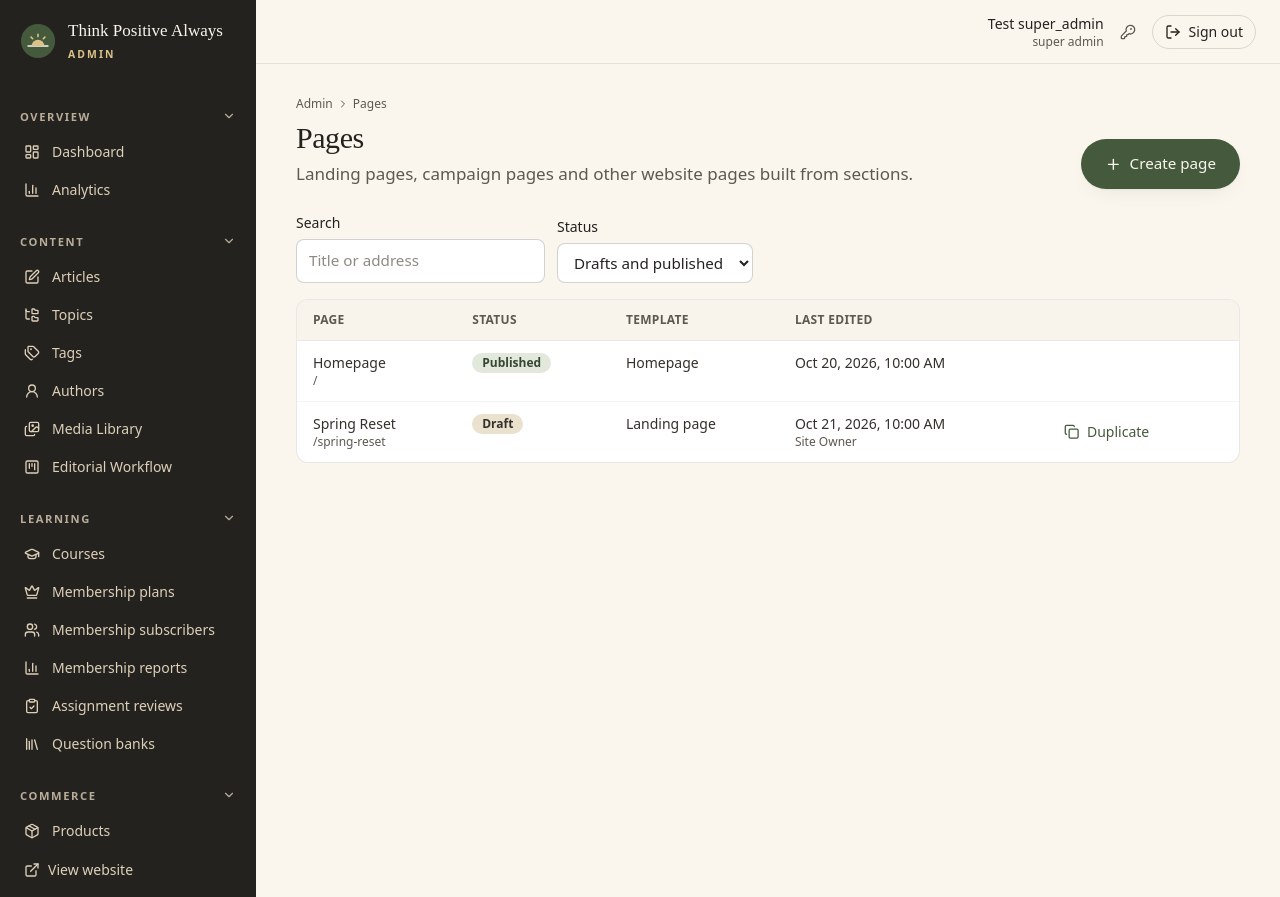
it: pages › creates a page from a template
Step 1. Click the button "Create page" → (1160,164), box [1081,139,1240,189]
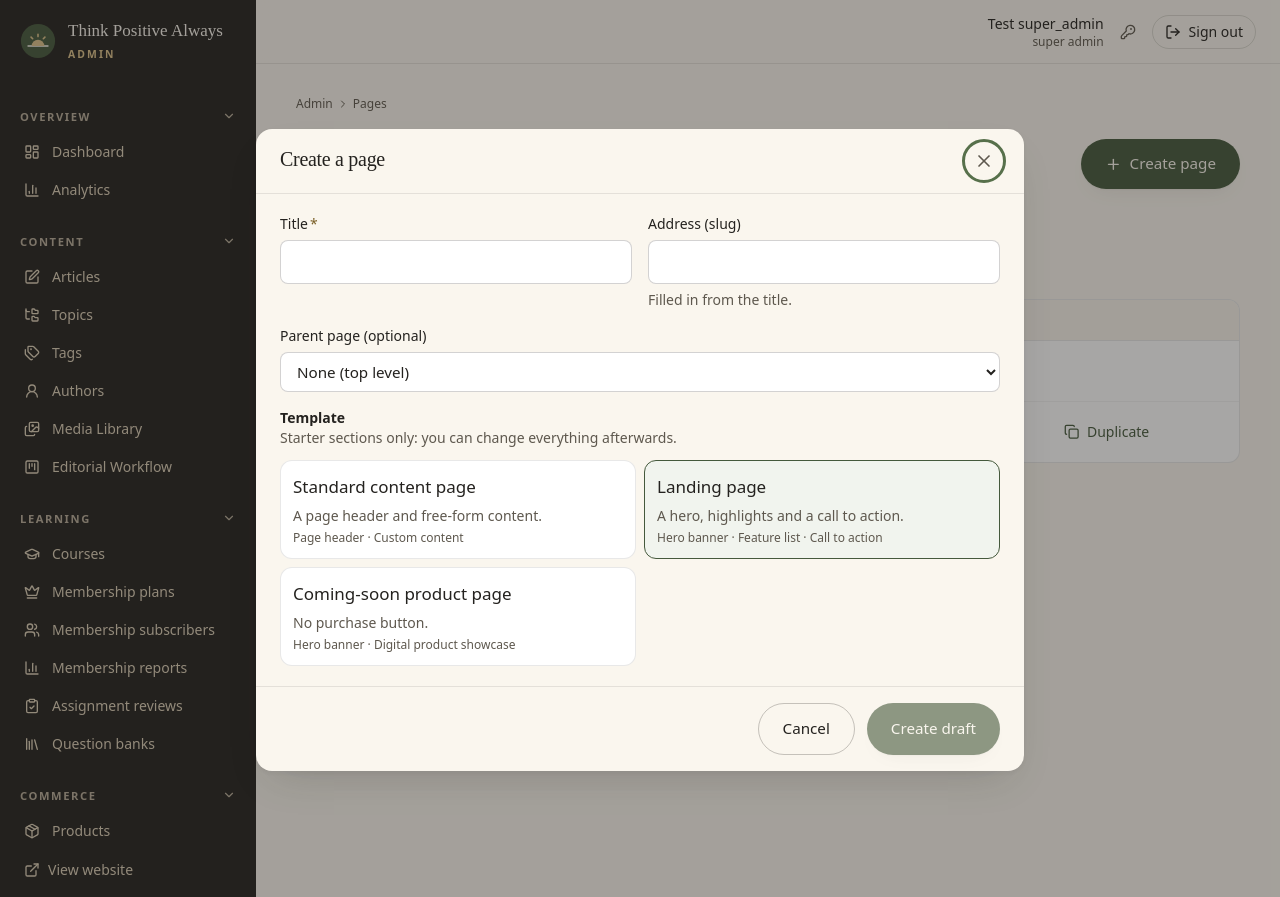
Step 2. Type "Spring Campaign" into the field labelled "Title*" → (456,262), box [280,240,632,284]
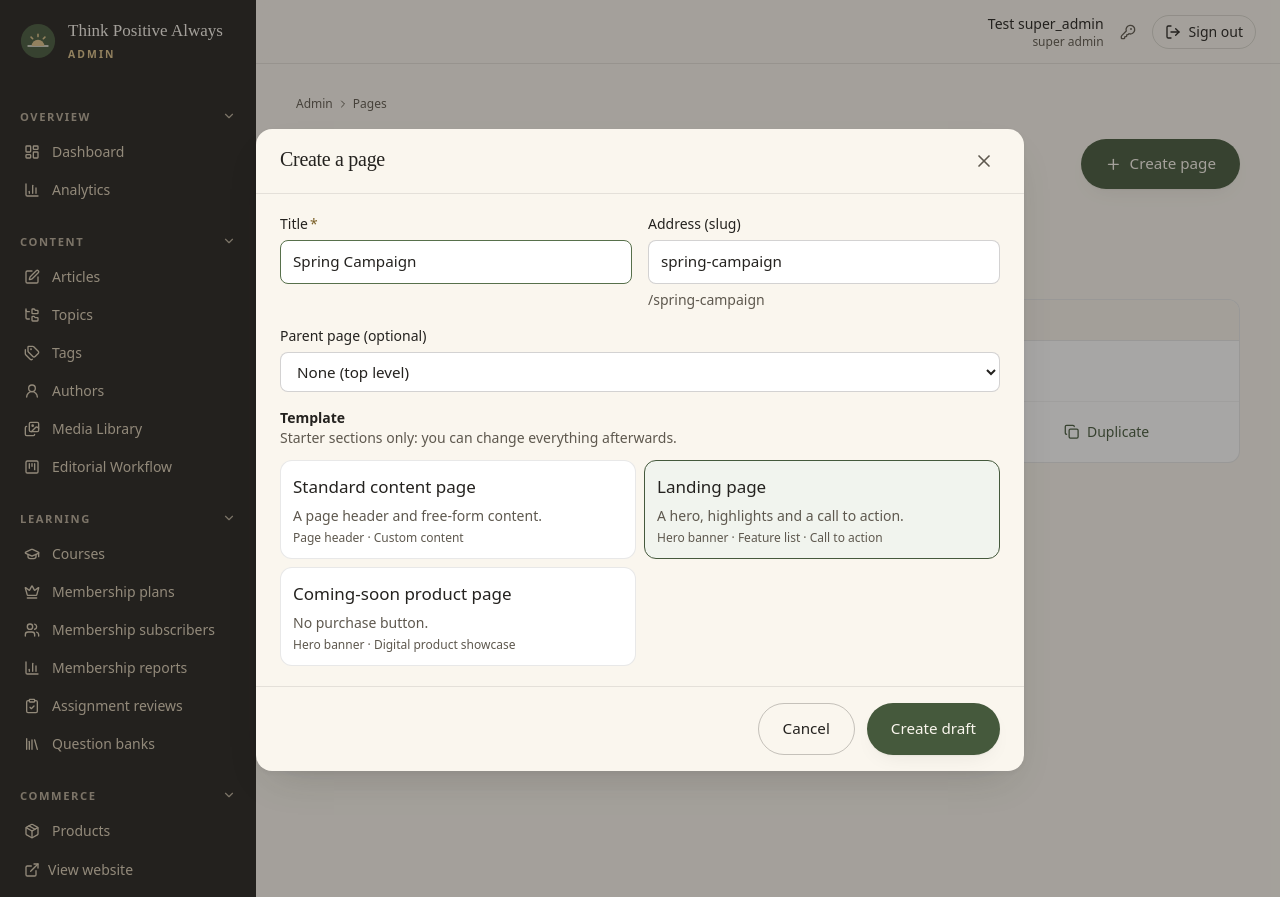
Now the field labelled "Address (slug)" holds "spring-campaign", box [648,240,1000,284]
Step 3. Click the radio button labelled "Coming-soon product page" → (402,593), box [280,567,636,666]
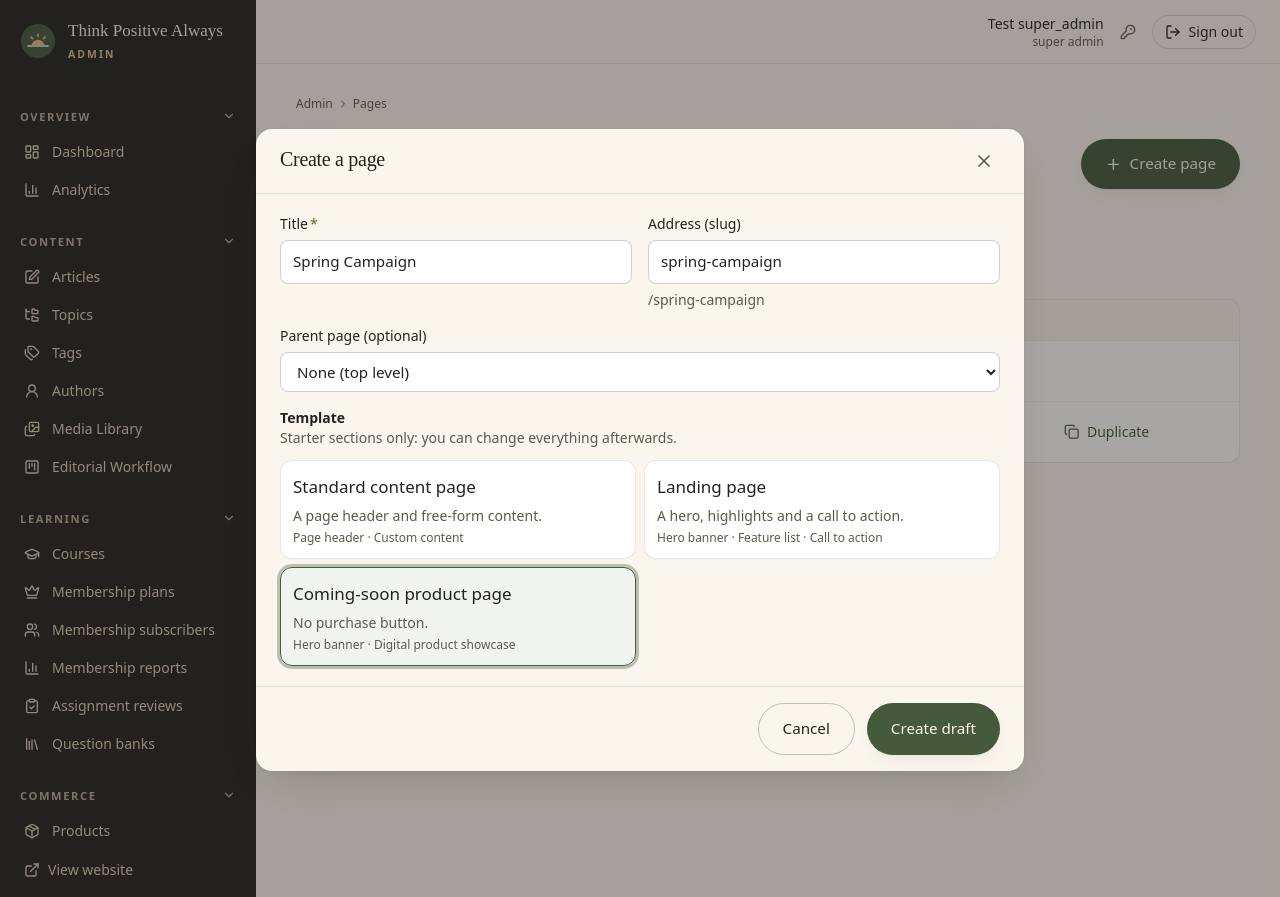
Step 4. Click the button "Create draft" → (933,729), box [867,703,1000,755]
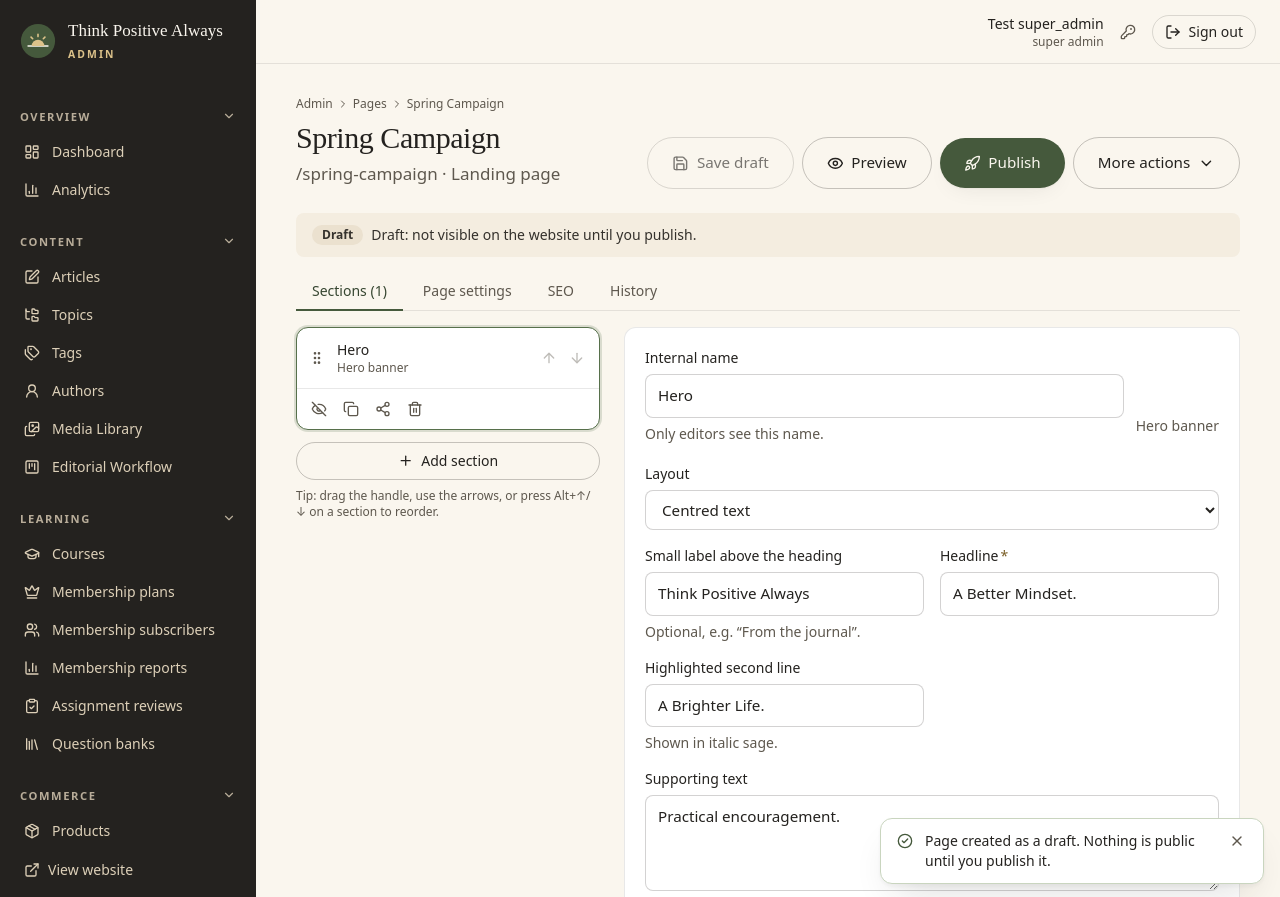
Now the heading "Spring Campaign" is shown, box [296,121,500,154]
